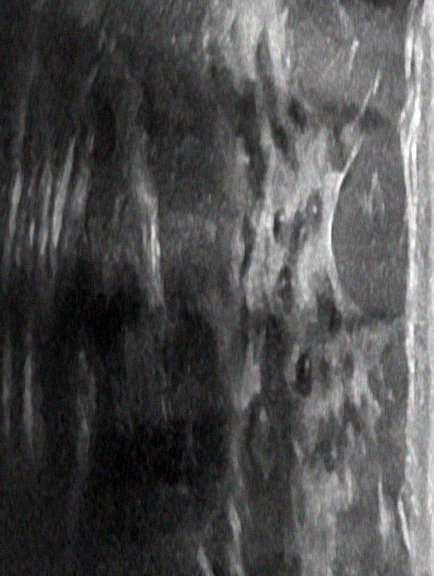Normal: (14, 3, 414, 571)
